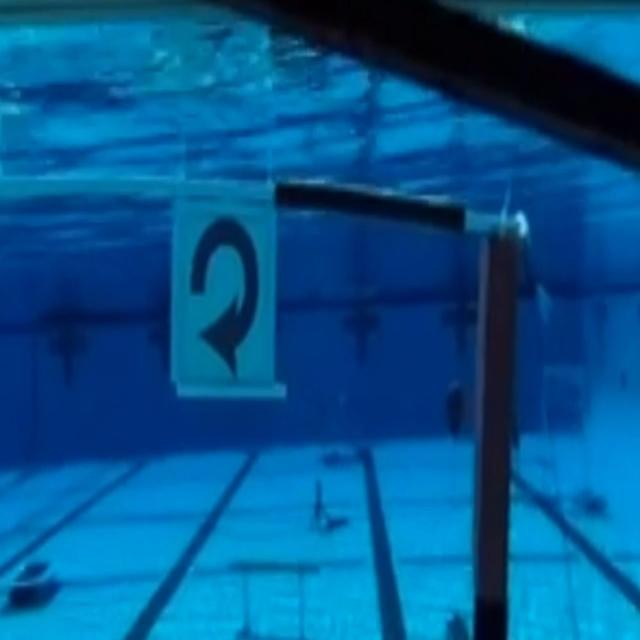Gate: (0, 173, 512, 639)
